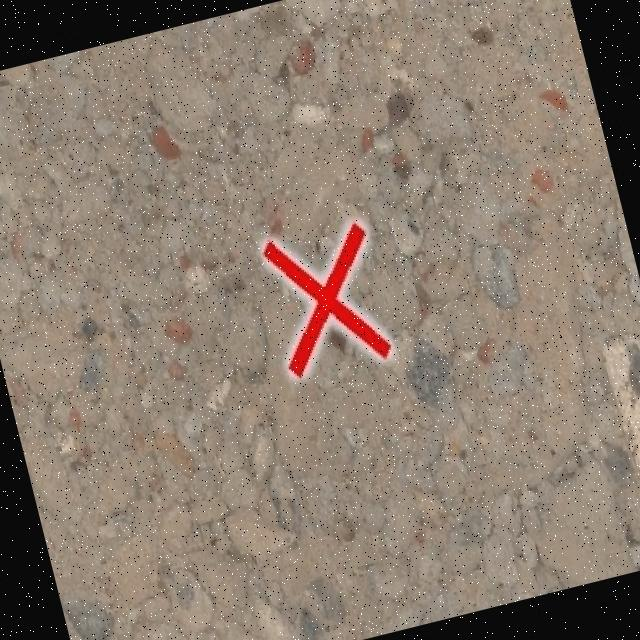x_marker: (257, 218, 393, 378)
